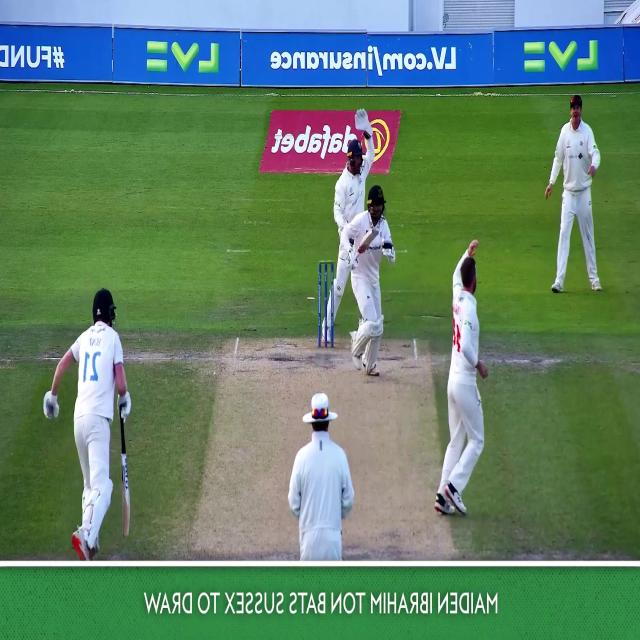stump: (318, 261, 334, 348), (318, 261, 334, 347)
